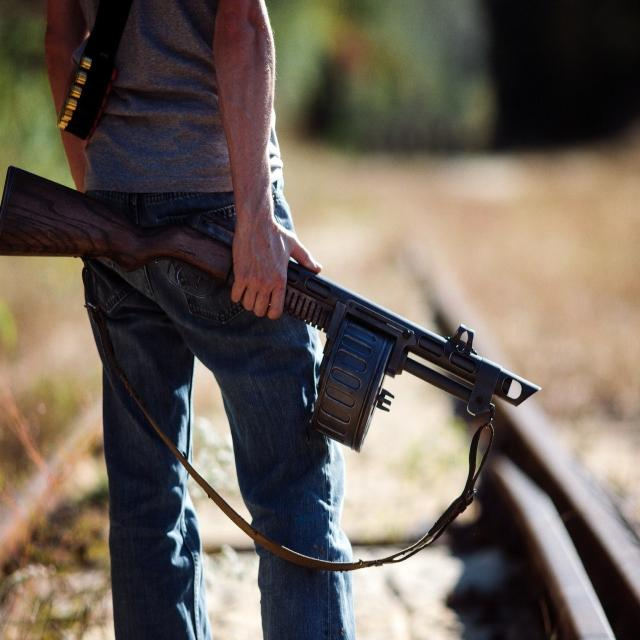firearm: (2, 165, 540, 454)
